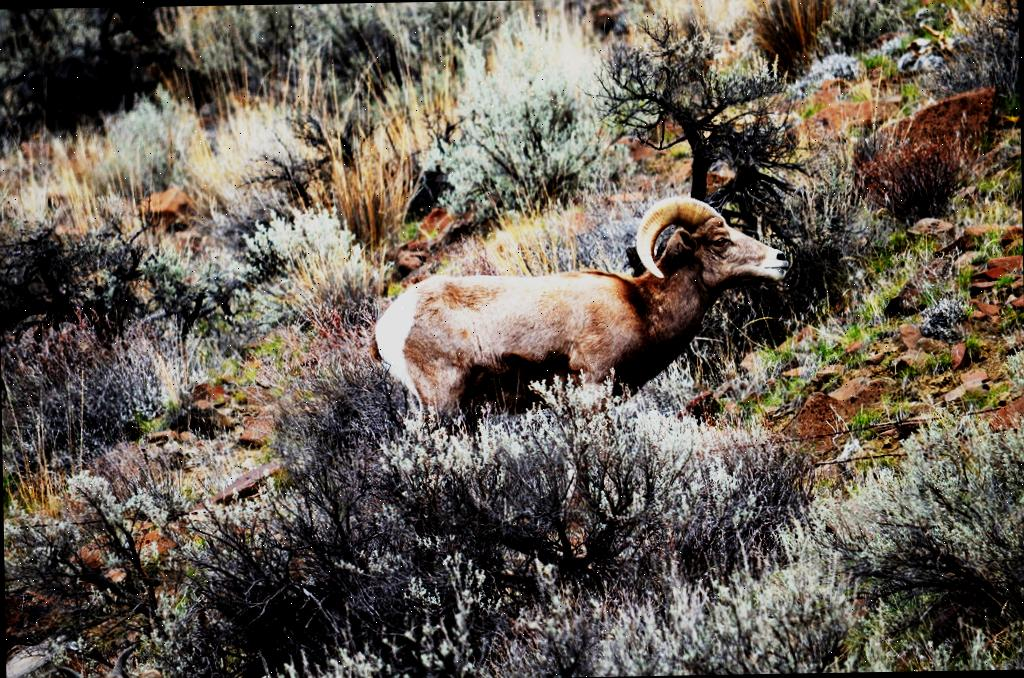Sheep: (367, 194, 791, 442)
